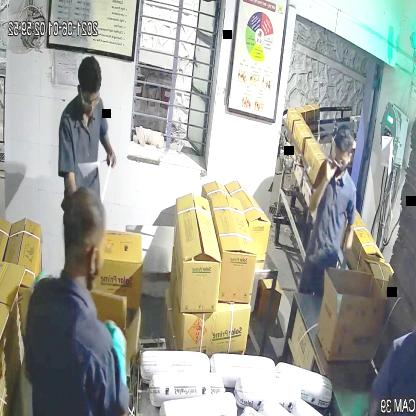goggles: (75, 82, 103, 112)
